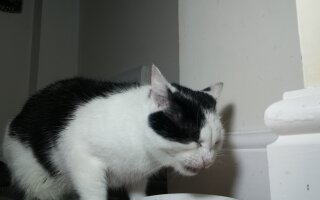bad: (6, 65, 226, 198)
